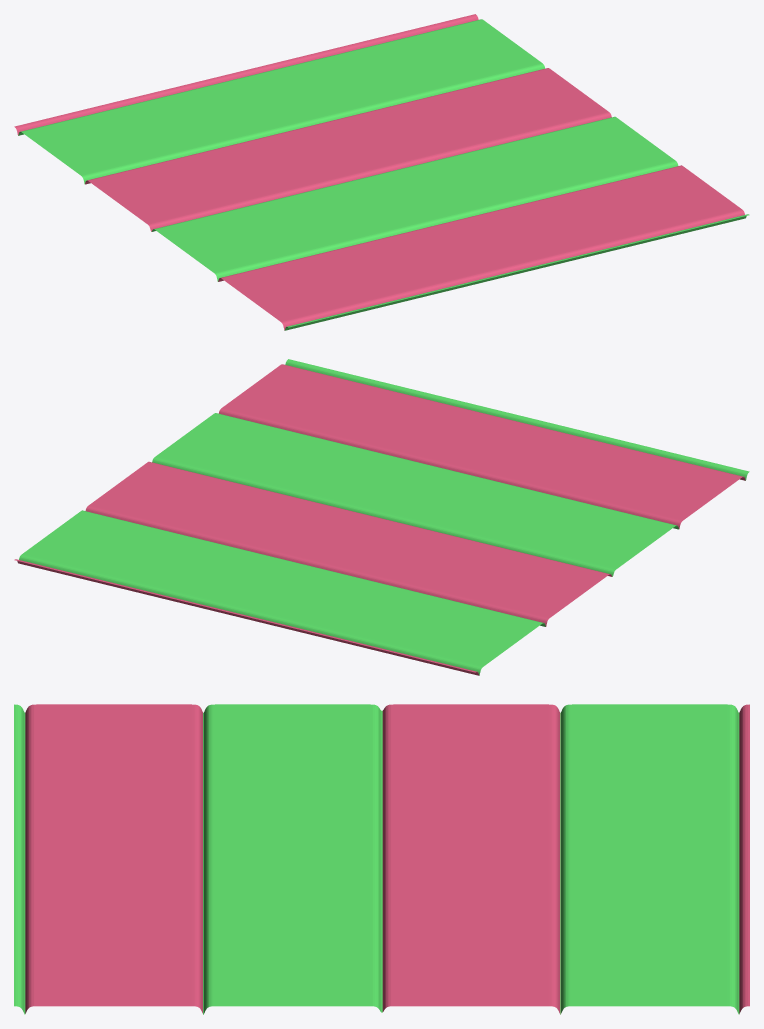
File: RollerDoor_High.fbx
3 views of the same model, one above another, from view 1: azimuth 30°, elevation 25°; view 2: azimuth 150°, elevation 25°; view 3: azimuth 270°, elevation 25° (orthographic). The views are drawn at different scales.
Parts seen in each view (by area): view 1: RollerDoor_High; view 2: RollerDoor_High; view 3: RollerDoor_High.
Boxes of the visible parts, box(x1,y1,x2,y2) form: RollerDoor_High: box(14, 14, 749, 330); RollerDoor_High: box(14, 359, 749, 675); RollerDoor_High: box(14, 704, 749, 1014).
Size of the model in its own units: 200 by 2.55 by 206.
